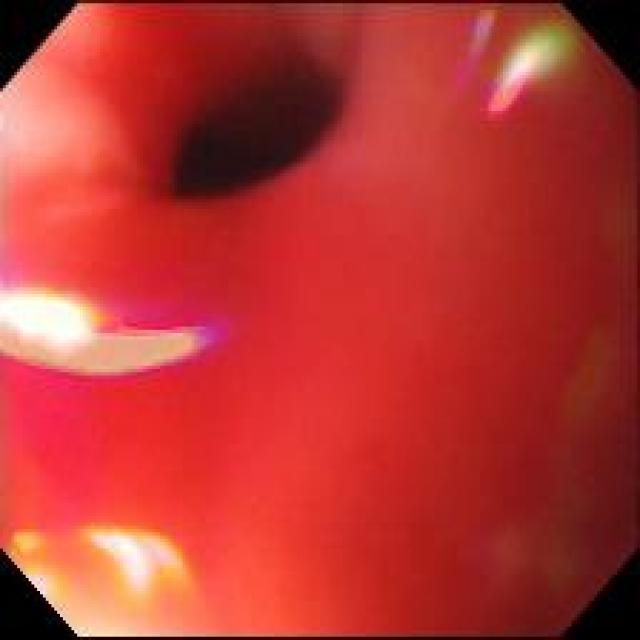blur: (2, 2, 631, 636)
color misalignment: (1, 283, 223, 381), (82, 520, 194, 604), (492, 20, 583, 117), (460, 5, 502, 80), (25, 559, 75, 603), (11, 532, 42, 557)
contrast: (170, 42, 335, 214)
specularity: (4, 288, 86, 347), (97, 532, 142, 562)
